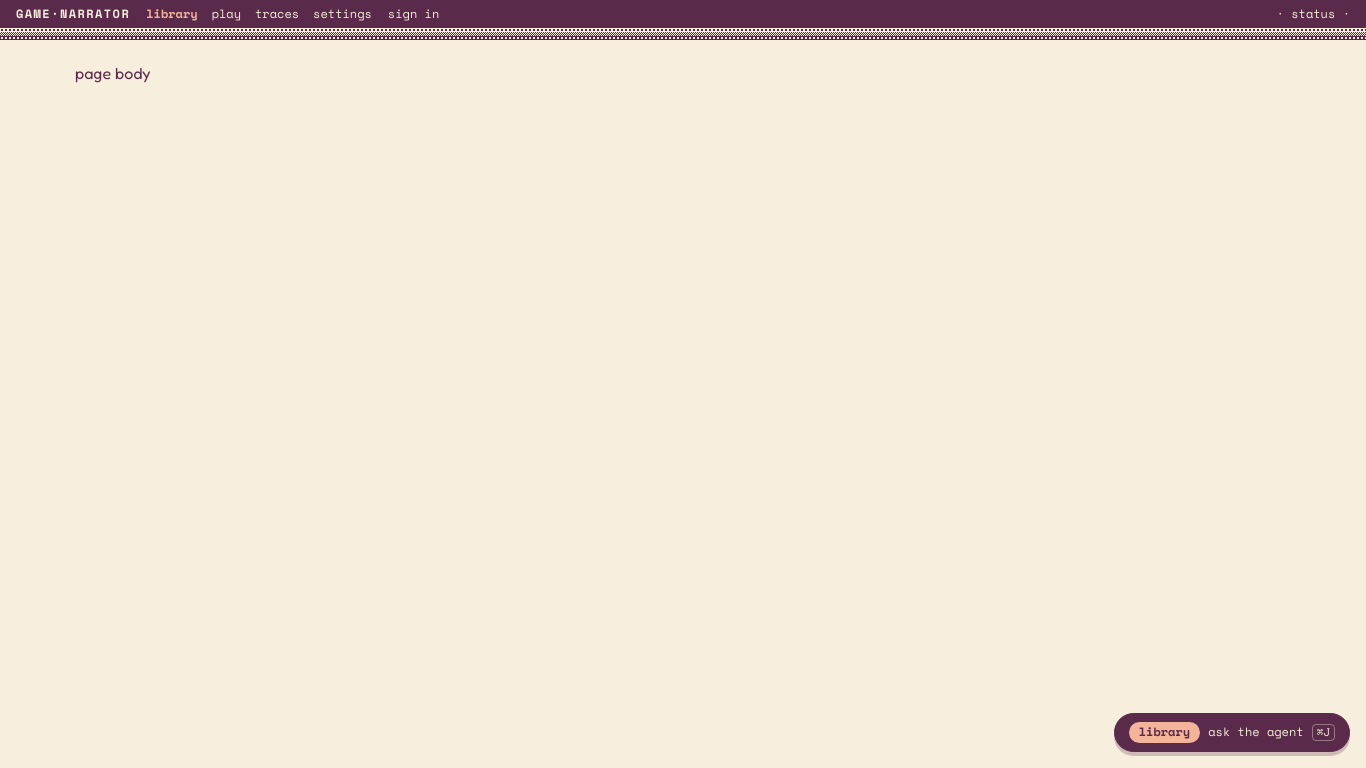
Test: Shell › hands the ⌘K query to the agent dock on Tab (UX-02)
The width and height of the screenshot is (1366, 768).
Press k
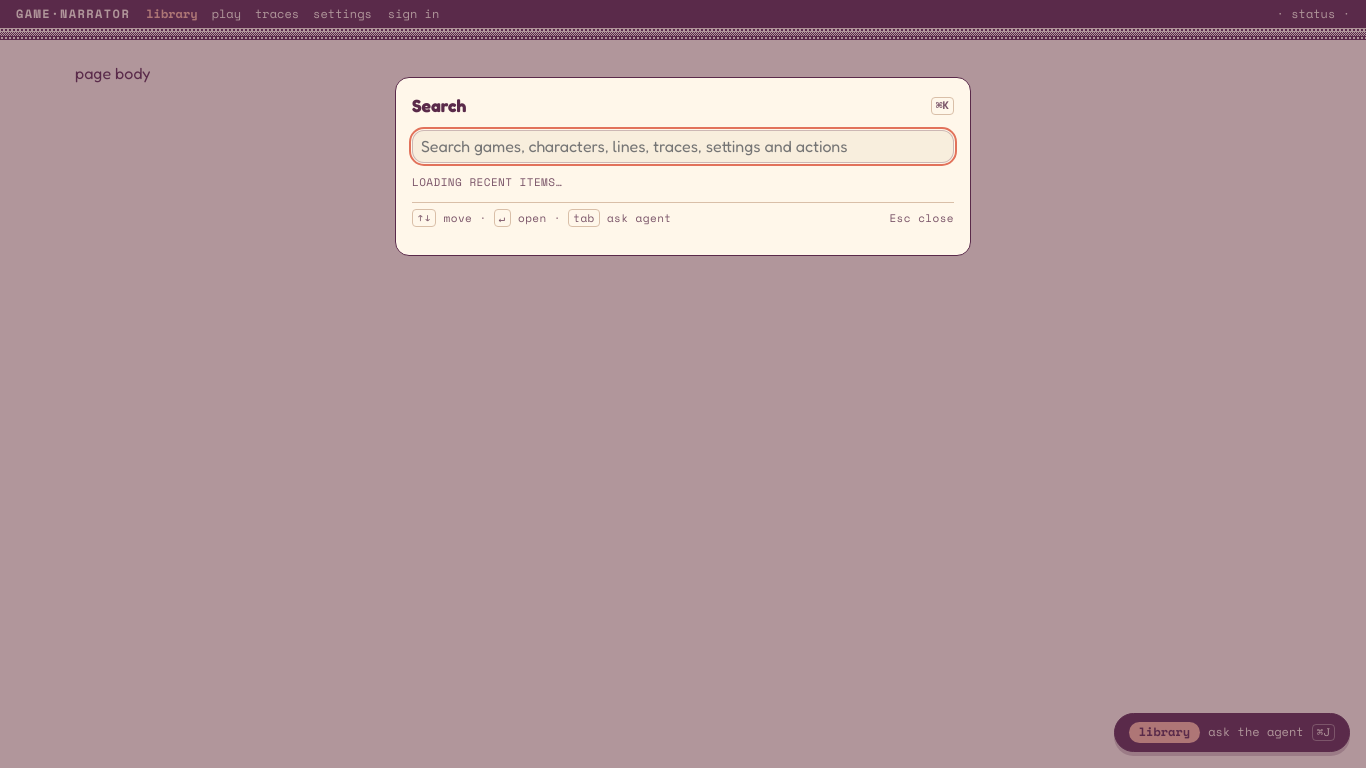
Replace the text in the field with test id "palette-input" with "boy" at (683, 147), box [412,130,954,163]
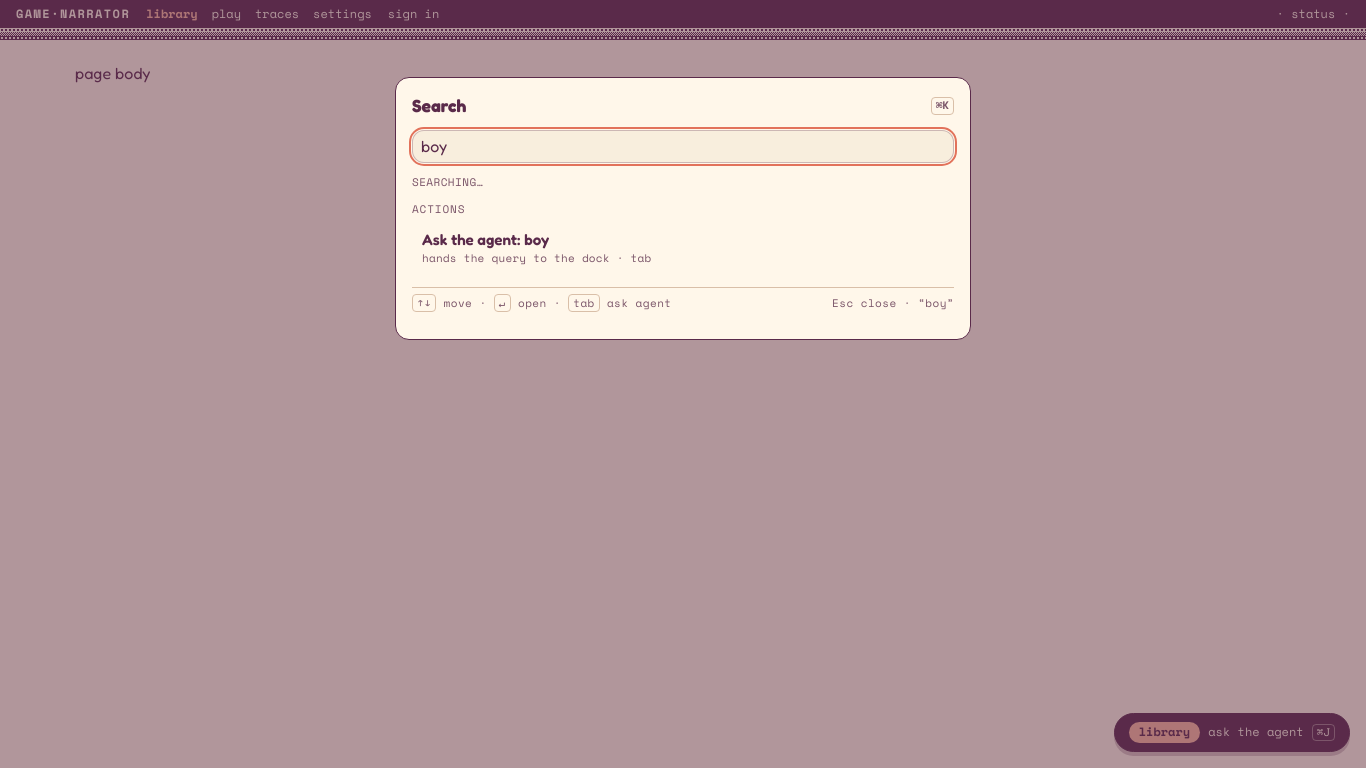
Press Tab in the field with test id "palette-input", box [412,130,954,163]
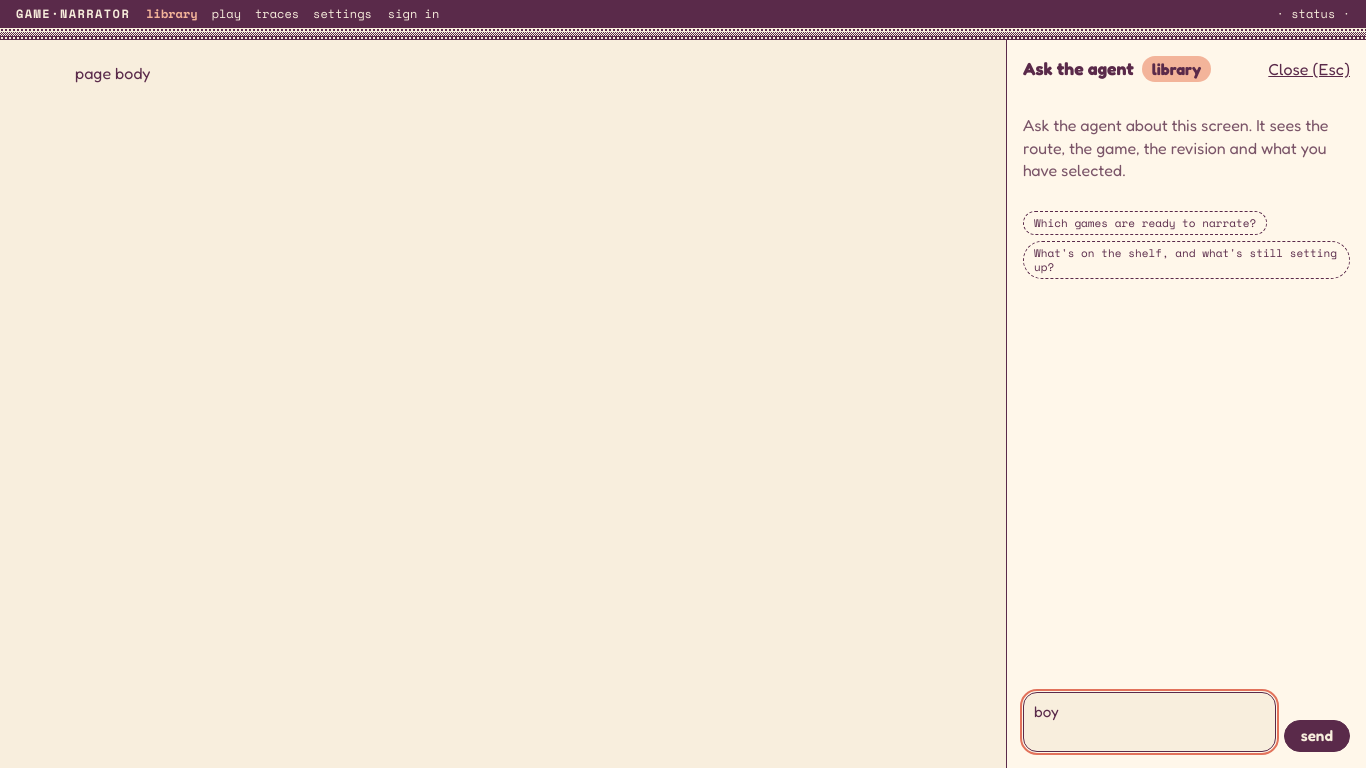
Expected: the dialog with test id "palette" is gone
Expected: the element with test id "agent-dock" is shown, [1006,40,1365,767]
Expected: the text box with test id "agent-dock-input" holds "boy", [1023,692,1276,752]
